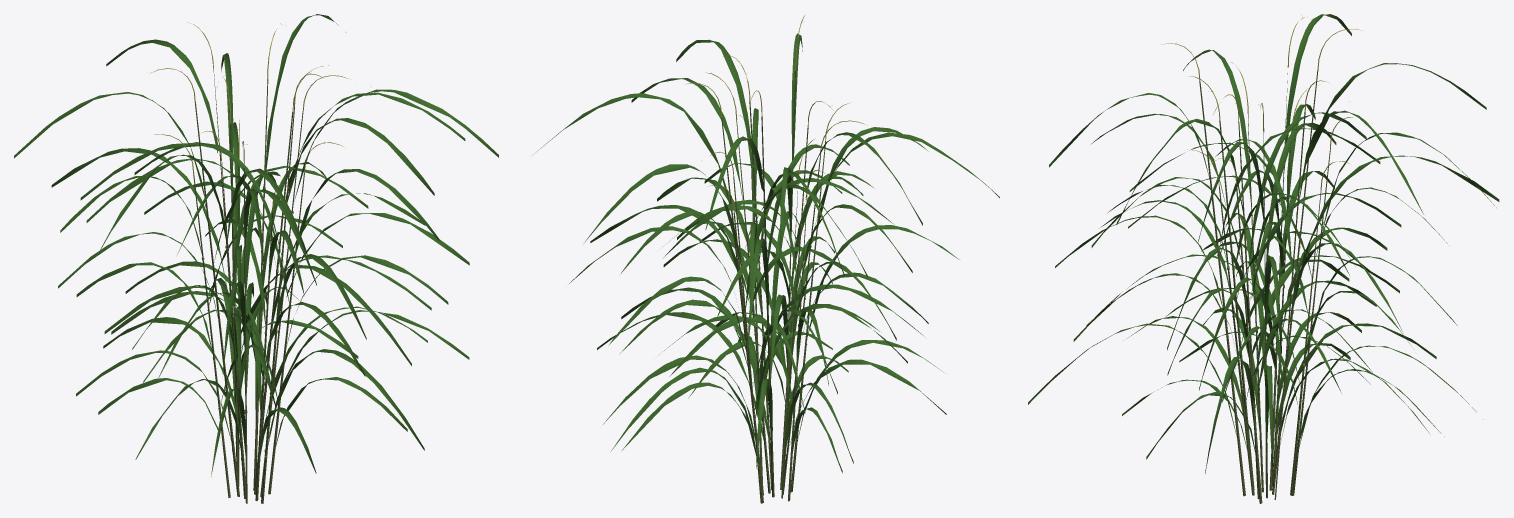
Rendered from rice-3-lite.glb.
3 views of the same model, side by side, from view 1: azimuth 30°, elevation 25°; view 2: azimuth 150°, elevation 25°; view 3: azimuth 270°, elevation 25° (orthographic). The views are drawn at different scales.
Visible parts, largest first — view 1: grass-leaf, stem, rachis; view 2: grass-leaf, stem, rachis; view 3: grass-leaf, stem, rachis.
Boxes of the visible parts, x1=… form: grass-leaf: x1=14, y1=14, x2=498, y2=476; stem: x1=193, y1=70, x2=304, y2=503; rachis: x1=150, y1=22, x2=348, y2=211; grass-leaf: x1=532, y1=33, x2=999, y2=473; stem: x1=721, y1=70, x2=825, y2=503; rachis: x1=685, y1=15, x2=866, y2=212; grass-leaf: x1=1028, y1=14, x2=1499, y2=473; stem: x1=1199, y1=70, x2=1330, y2=503; rachis: x1=1160, y1=16, x2=1362, y2=190.
Size of what is drawn, in the model's own units: 0.9412 by 1.06 by 0.982.
3 materials, 2 textured.
